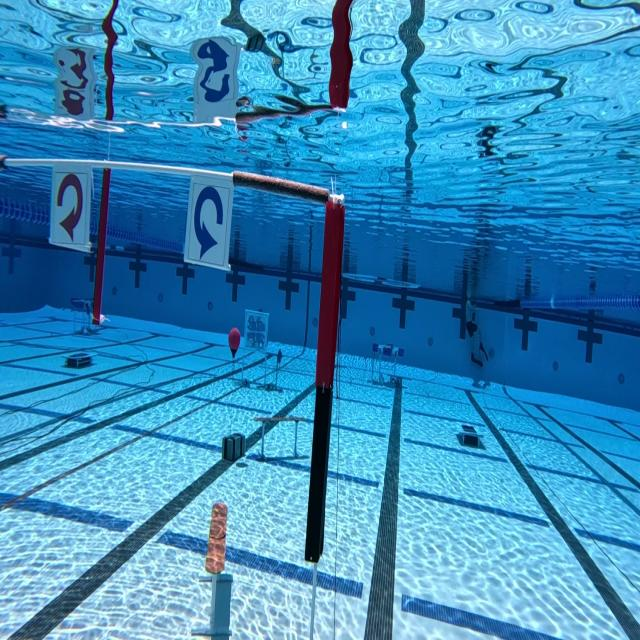blue_side: (184, 171, 236, 270)
red_side: (48, 159, 96, 254)
